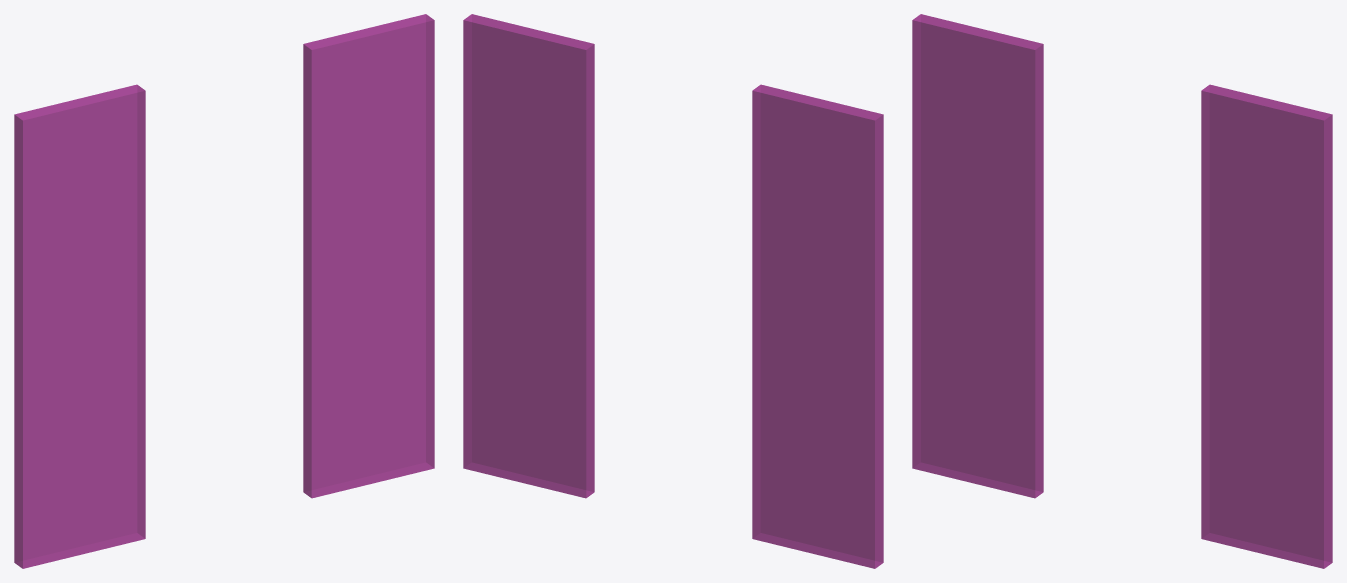
The model's file is SM_Bld_Villa_Fence_Gate_02_Collision.fbx.
3 renders of one model, left to right at view 1: azimuth 30°, elevation 25°; view 2: azimuth 150°, elevation 25°; view 3: azimuth 330°, elevation 25°, orthographic.
Visible parts, largest first — view 1: SM_Bld_Villa_Fence_Gate_02_Collision; view 2: SM_Bld_Villa_Fence_Gate_02_Collision; view 3: SM_Bld_Villa_Fence_Gate_02_Collision.
Part boxes in pixels (left/top/right/bottom): SM_Bld_Villa_Fence_Gate_02_Collision: left=14, top=14, right=434, bottom=568; SM_Bld_Villa_Fence_Gate_02_Collision: left=463, top=14, right=883, bottom=568; SM_Bld_Villa_Fence_Gate_02_Collision: left=912, top=14, right=1332, bottom=568.
Size of the model in its own units: 253 by 263 by 8.97.
